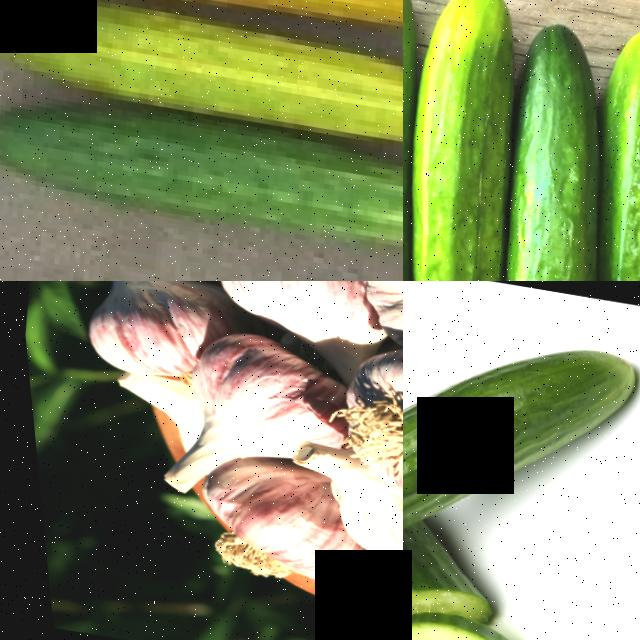cucumber: (0, 83, 403, 272), (0, 0, 403, 167), (403, 306, 640, 534), (439, 13, 640, 281), (403, 0, 569, 281), (525, 17, 640, 281), (403, 0, 470, 281)
garlic: (169, 325, 352, 455), (185, 459, 335, 585), (321, 339, 403, 514), (66, 281, 209, 380), (198, 281, 378, 343)
